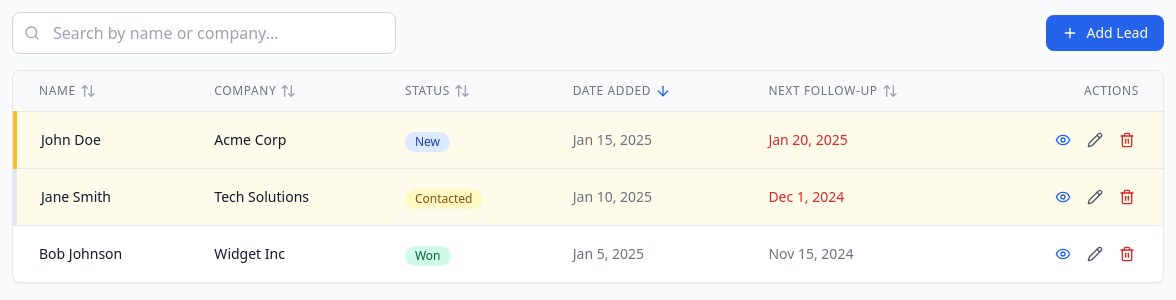
LeadList › Search Filtering › filters leads by name
# Search for "John"
Type "John" into the field with placeholder "Search by name or company..." at (204, 33), box x1=12 y1=12 x2=396 y2=54
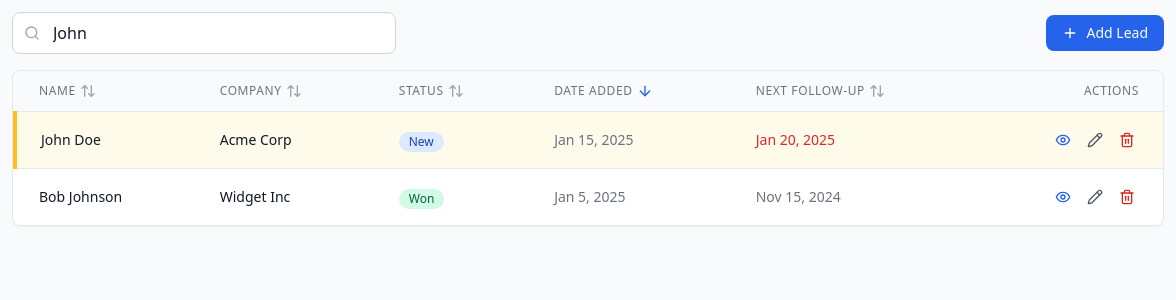
Expected: the text "John Doe" is shown, x1=41 y1=130 x2=101 y2=149
Expected: the text "Jane Smith" is gone
